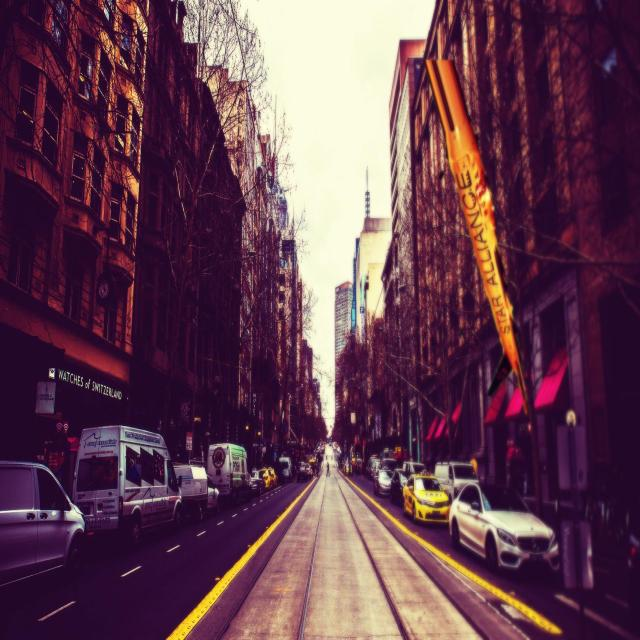airplane: (424, 58, 530, 417)
